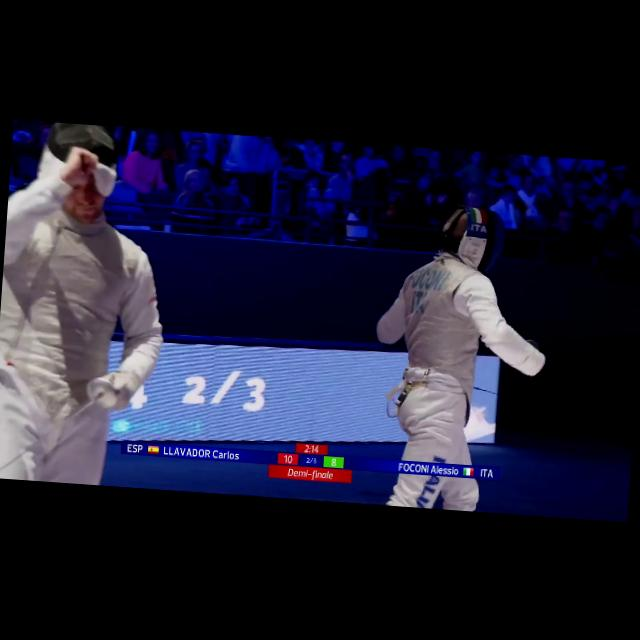blade: (0, 368, 119, 484)
